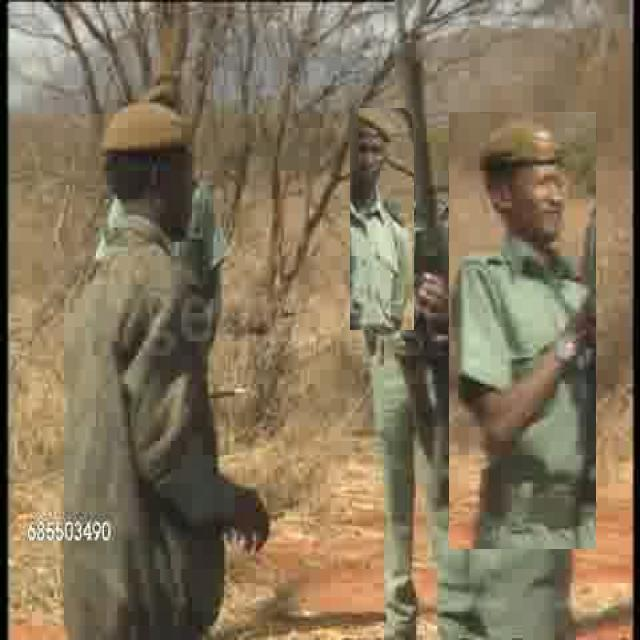poacher: (54, 98, 262, 550), (449, 112, 596, 549), (350, 108, 414, 330)
weapon: (394, 5, 444, 505)
